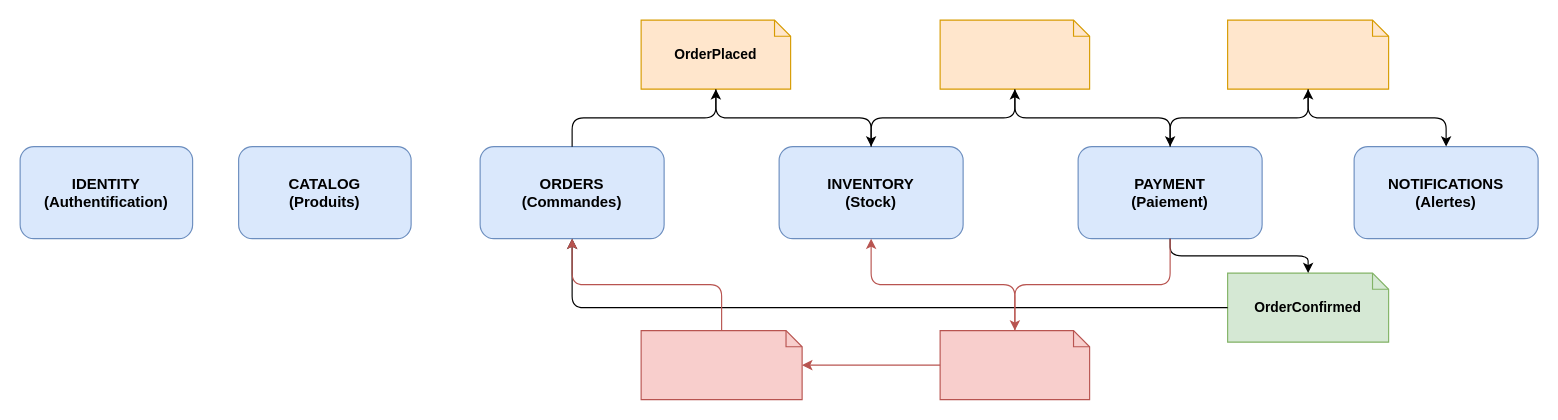
Some shapes in this 1558 by 420 pixel diagram are drawn without their labels. The box of each missing label's shape, as (x1, y1, x2, y2) in pixels:
OrderCancelled (Compensation): (640, 329, 802, 400)
PaymentCaptured: (1226, 19, 1389, 89)
PaymentFailed: (939, 329, 1090, 400)
StockReserved: (939, 19, 1090, 89)
